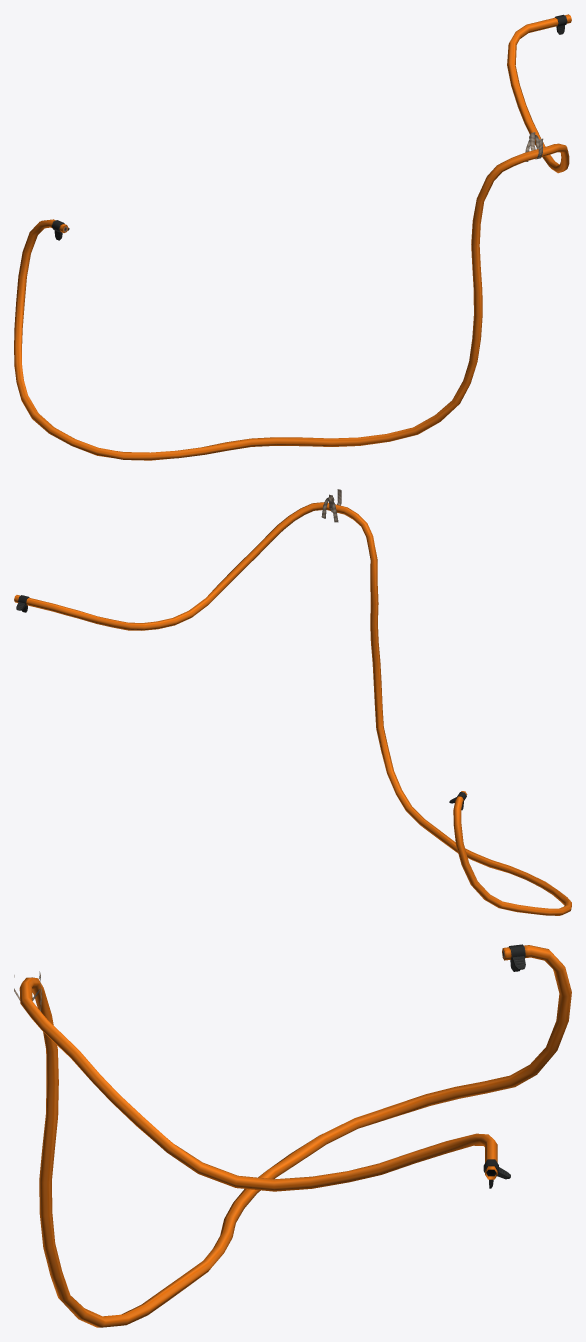
The model's file is jsf_GasRange_13b.fbx.
The picture shows the model from 3 angles, top to bottom: view 1: azimuth 30°, elevation 25°; view 2: azimuth 150°, elevation 25°; view 3: azimuth 270°, elevation 25°; orthographic projection. The views are drawn at different scales.
Visible parts, largest first — view 1: GasHose; view 2: GasHose; view 3: GasHose.
Part boxes in pixels (bbox=[...]): GasHose: bbox=[14, 14, 571, 460]; GasHose: bbox=[14, 489, 571, 915]; GasHose: bbox=[14, 944, 571, 1327].
Size of the model in its own units: 133 by 68.19 by 77.68.
